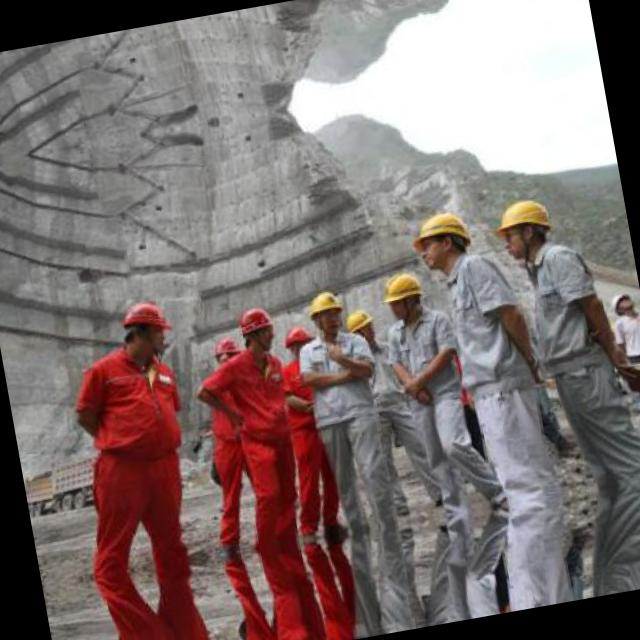helmet: (403, 202, 478, 280), (488, 190, 560, 266), (112, 292, 174, 362), (232, 299, 280, 357), (378, 268, 426, 322), (298, 283, 346, 337), (341, 306, 384, 348), (282, 320, 318, 364), (209, 334, 246, 376), (604, 284, 636, 318)
